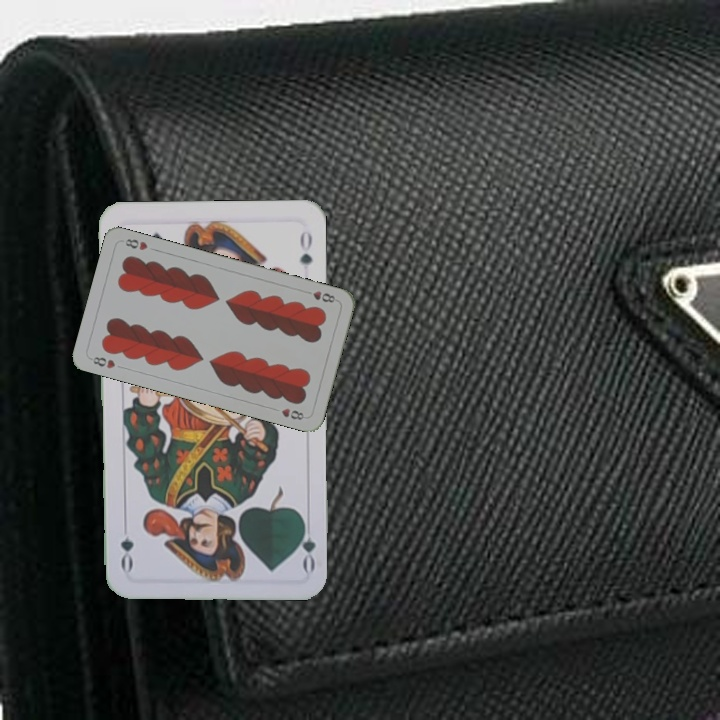GO: (294, 515, 318, 574)
H8: (86, 352, 118, 371), (309, 287, 338, 305)
